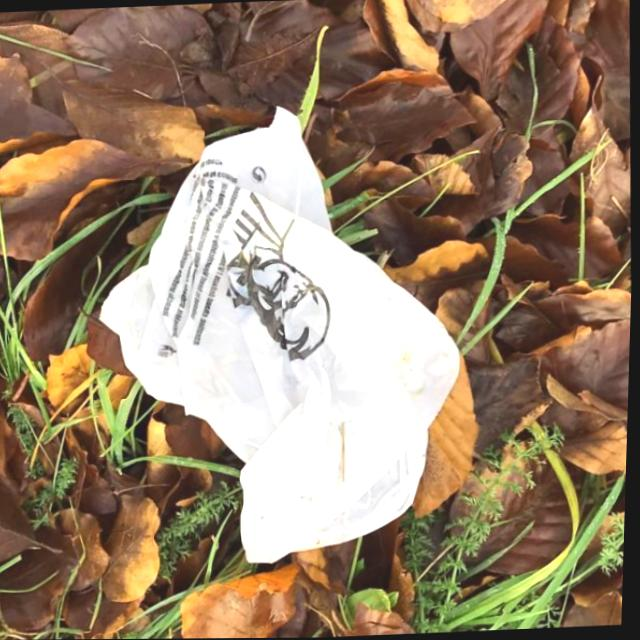Paper: (80, 89, 477, 574)
